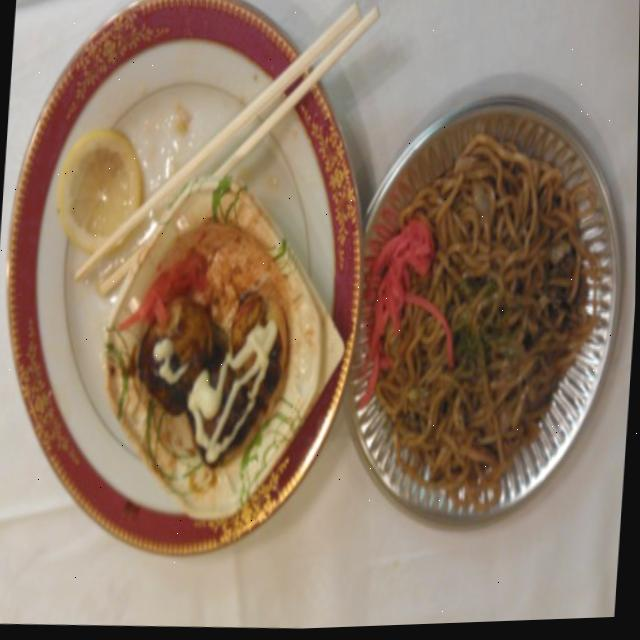炸货点心: (138, 241, 313, 481)
面条主食: (329, 87, 632, 540)
